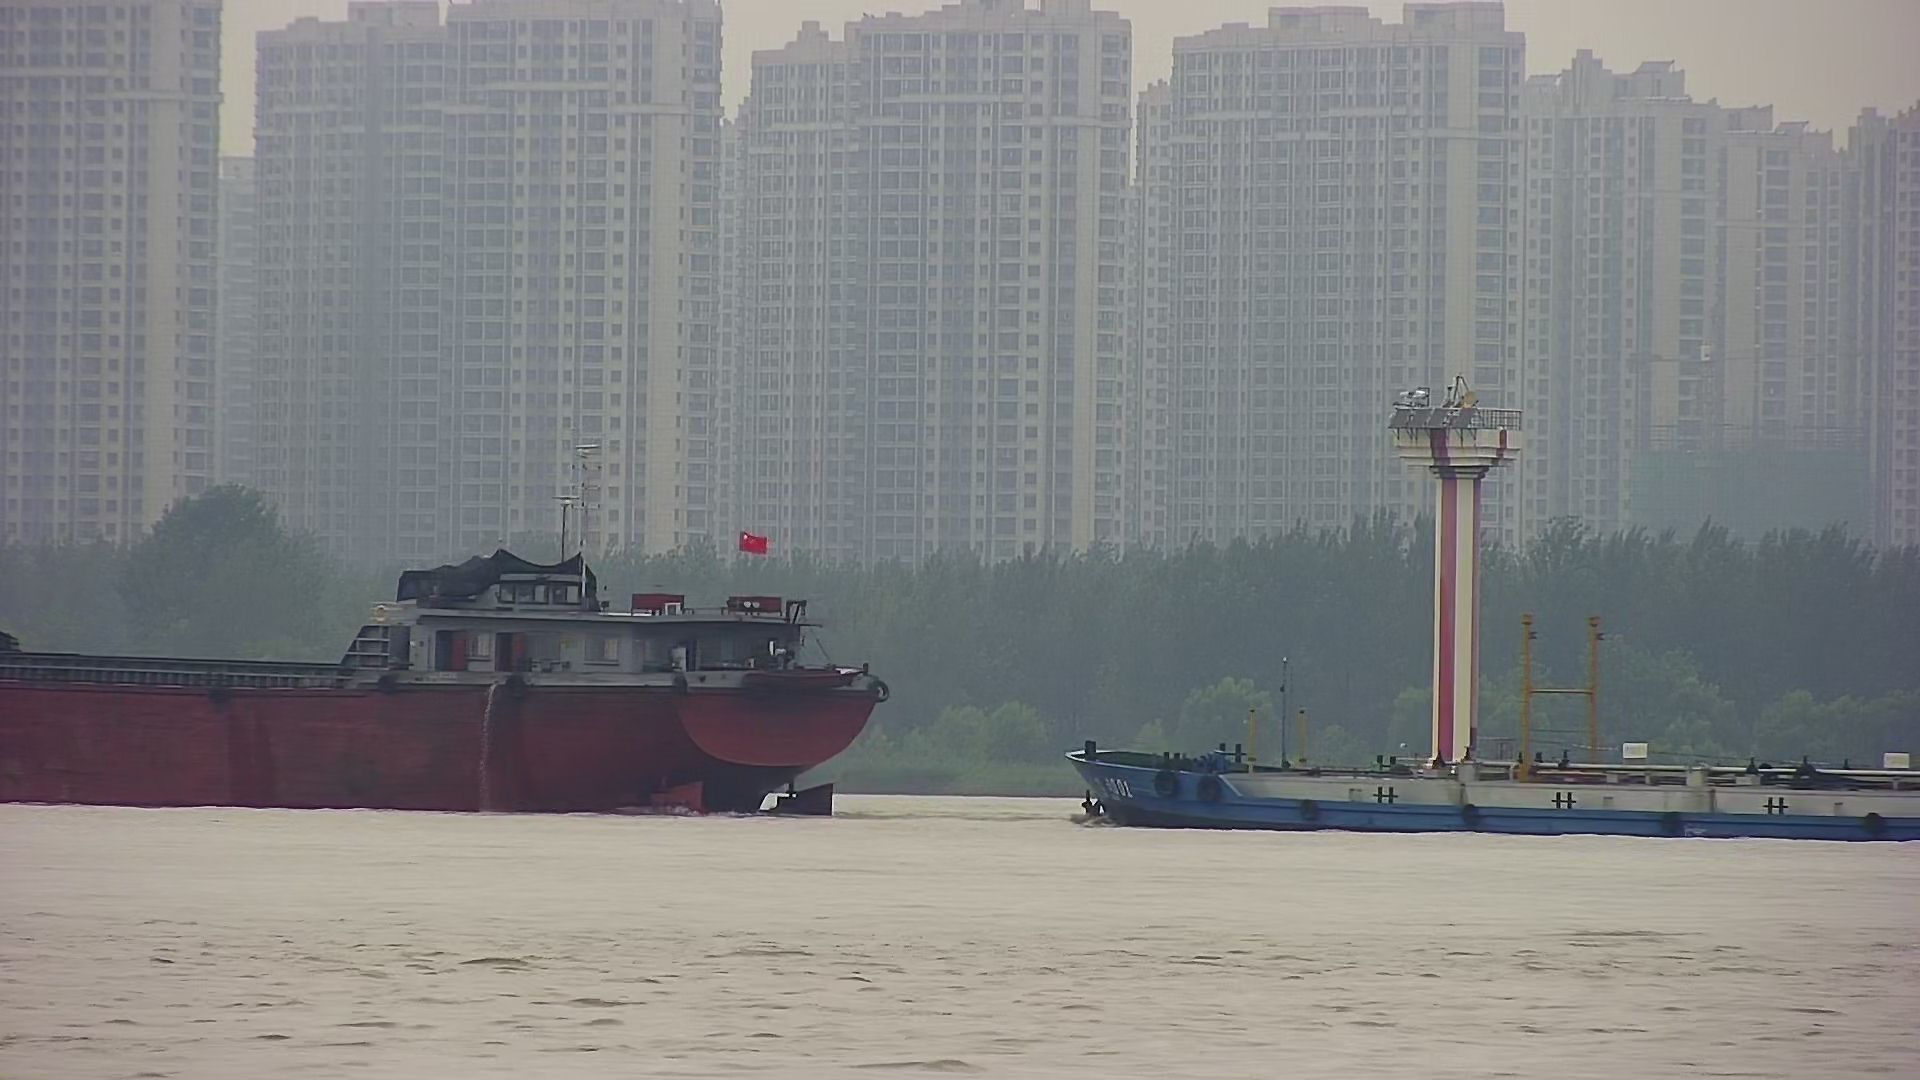platform: (1387, 378, 1514, 833)
ship: (1, 438, 887, 829), (1068, 609, 1920, 849)
